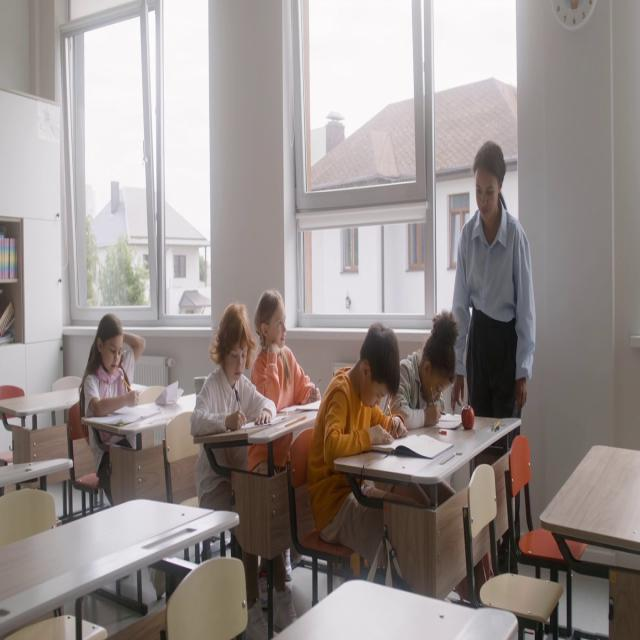listening: (250, 286, 318, 446)
writing: (309, 323, 429, 602), (191, 303, 283, 638), (81, 320, 141, 467), (394, 311, 456, 435)
